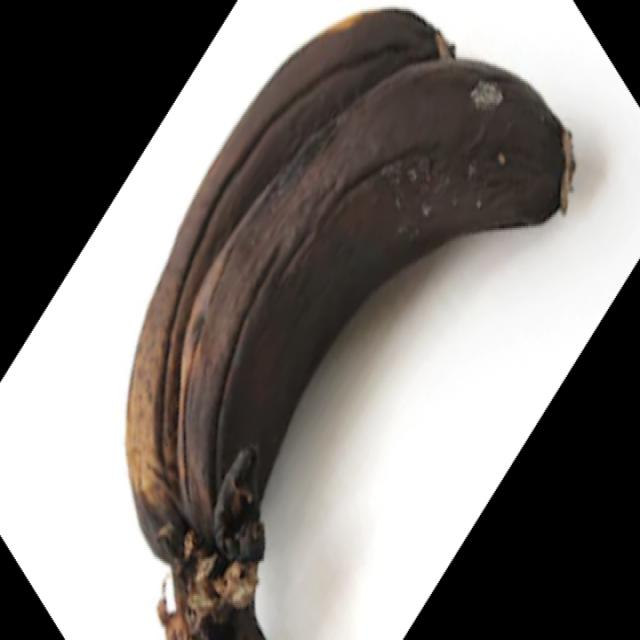Rotten: (180, 56, 574, 558)
